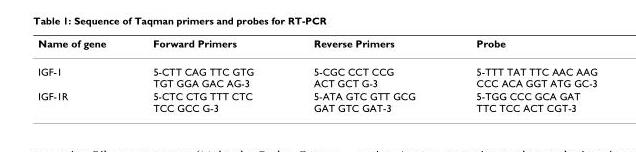table: (37, 36, 596, 113)
table column: (283, 36, 445, 113), (128, 36, 283, 113), (445, 36, 596, 113), (37, 36, 128, 113)
table column header: (37, 36, 596, 57)
table row: (37, 57, 596, 89), (37, 89, 596, 113), (37, 36, 596, 57)
